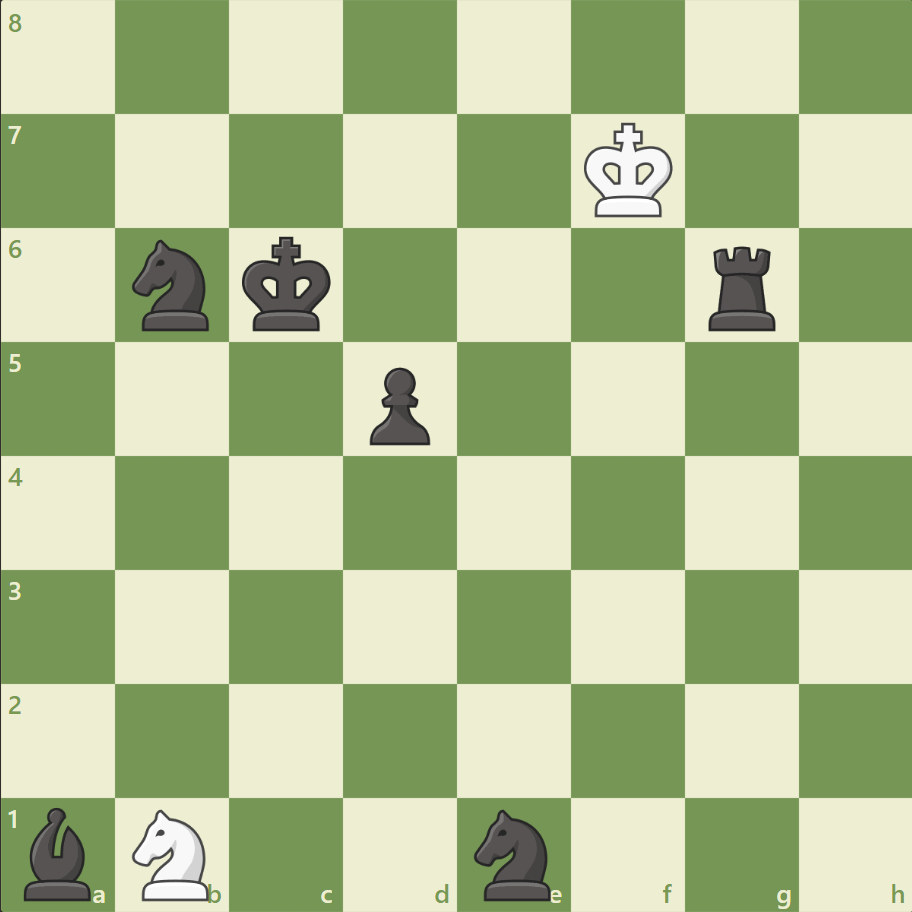K: (579, 117, 679, 225)
N: (124, 802, 222, 904)
b: (17, 801, 101, 904)
k: (238, 231, 338, 339)
n: (124, 234, 222, 337), (465, 802, 562, 904)
p: (361, 359, 435, 450)
r: (700, 239, 783, 336)
